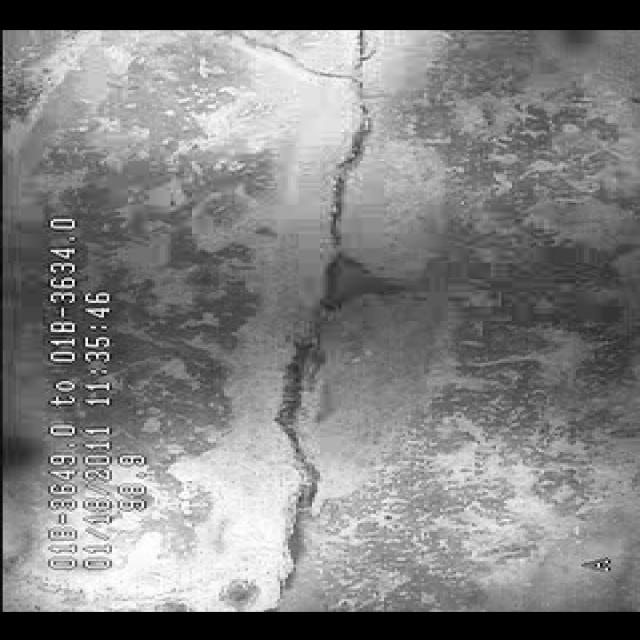Crack: (204, 95, 414, 574)
